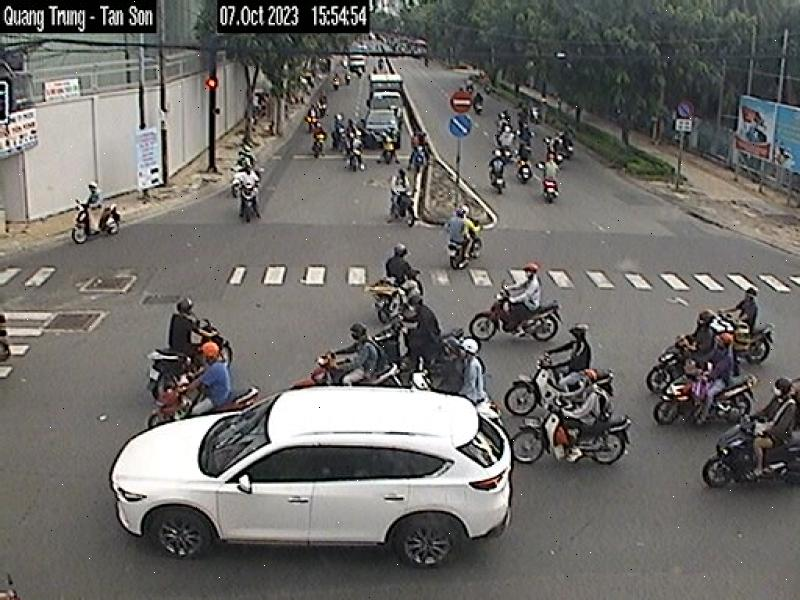car: (114, 385, 517, 576), (360, 110, 401, 148)
motorcycle: (513, 400, 631, 466), (148, 319, 235, 401), (700, 419, 800, 488), (506, 356, 614, 417), (656, 369, 756, 425), (468, 288, 562, 344), (148, 387, 260, 433), (651, 344, 738, 396), (70, 202, 123, 244), (740, 326, 776, 368)
truck: (369, 73, 404, 124)
